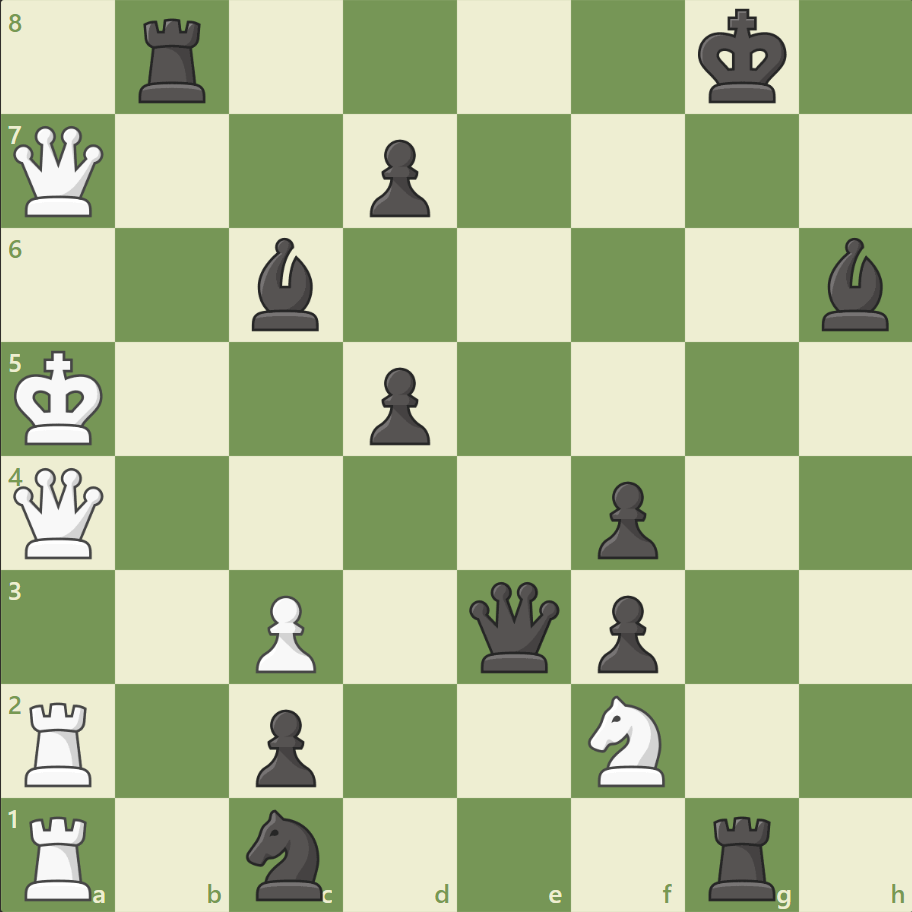K: (11, 344, 111, 452)
N: (579, 688, 676, 791)
P: (247, 586, 322, 677)
Q: (10, 122, 109, 222), (10, 463, 109, 562)
R: (19, 806, 102, 904), (19, 693, 102, 790)
b: (244, 233, 328, 336), (812, 233, 896, 336)
k: (692, 4, 792, 112)
n: (238, 802, 335, 904)
p: (247, 700, 322, 791), (361, 132, 435, 223), (361, 359, 435, 450), (588, 473, 662, 564), (588, 586, 662, 677)
q: (464, 576, 563, 676)
r: (700, 806, 783, 904), (133, 12, 215, 109)
